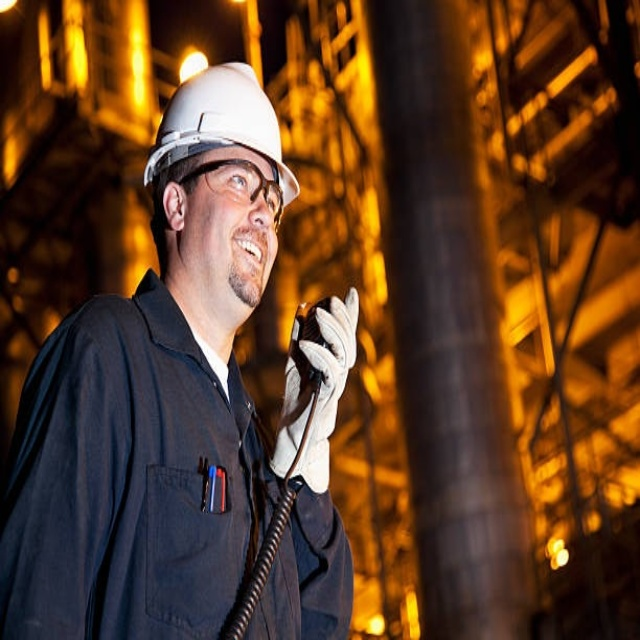Gafas: (175, 158, 287, 234)
Guantes: (270, 286, 358, 493)
Sin_mascara: (222, 237, 271, 289)
